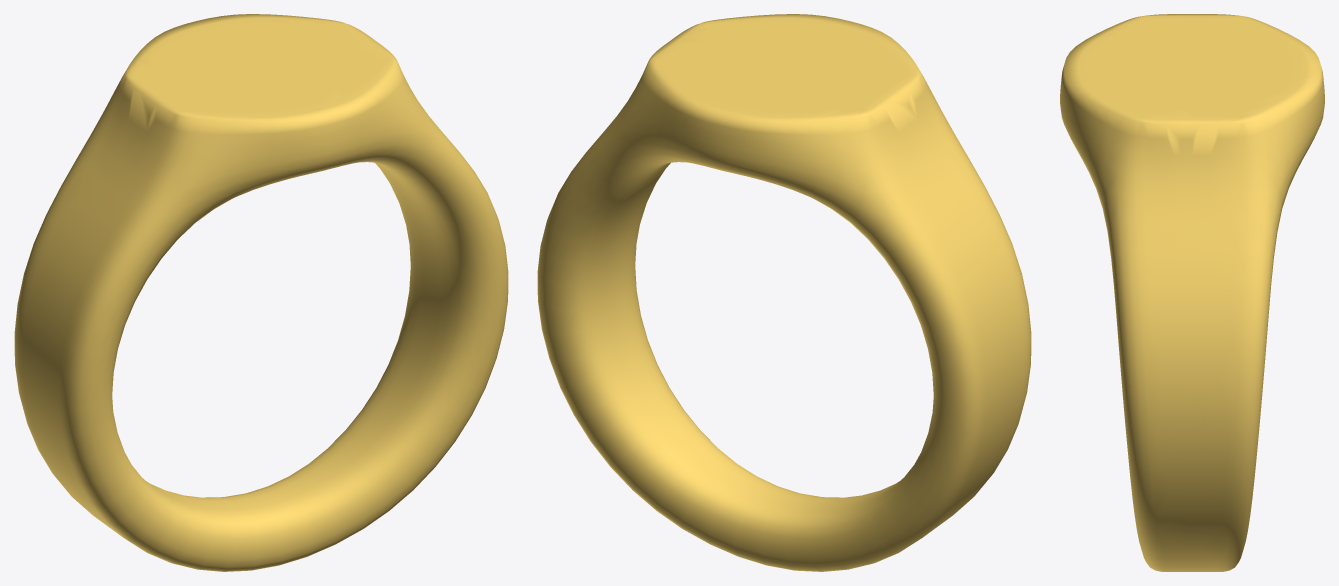
The model's file is golden_base_ring.glb.
3 renders of one model, left to right at view 1: azimuth 30°, elevation 25°; view 2: azimuth 150°, elevation 25°; view 3: azimuth 270°, elevation 25°, orthographic.
Parts seen in each view (by area): view 1: Object_4; view 2: Object_4; view 3: Object_4.
Boxes of the visible parts, x1,y1,x2,y2 form: Object_4: (14, 14, 508, 571); Object_4: (537, 14, 1031, 571); Object_4: (1060, 14, 1324, 571).
Size of the model in its own units: 0.0215 by 0.0226 by 0.0113.
